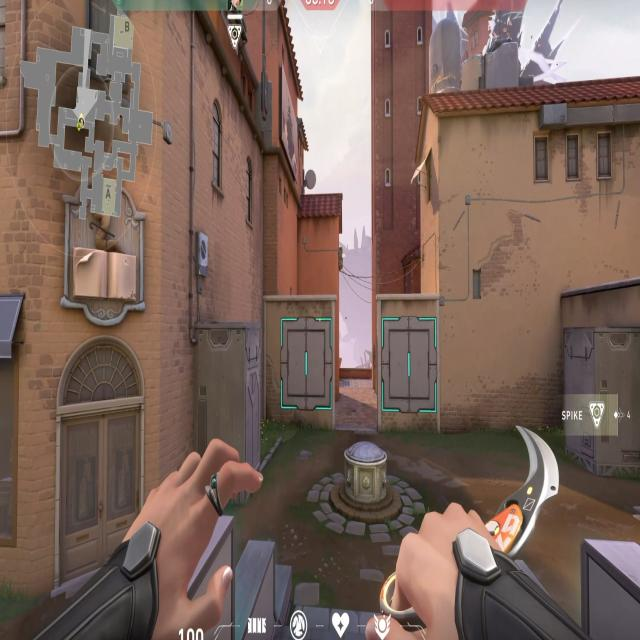Mid_Wall: (262, 292, 335, 425), (376, 294, 442, 434)
